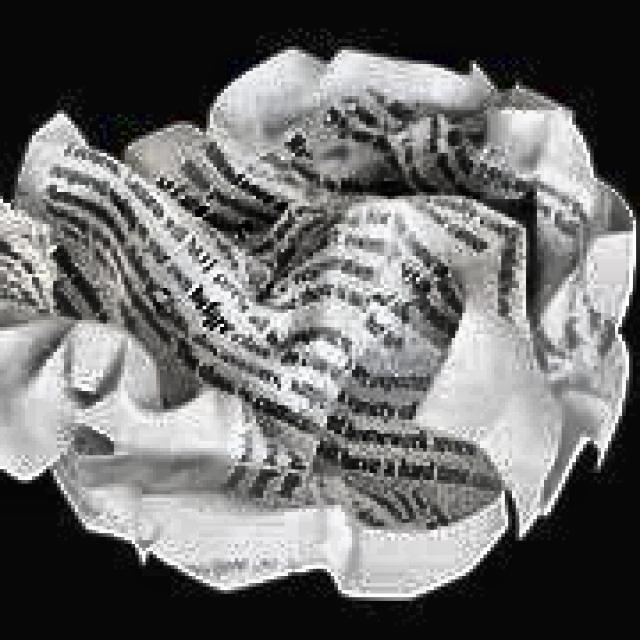Paper: (0, 42, 640, 612)
